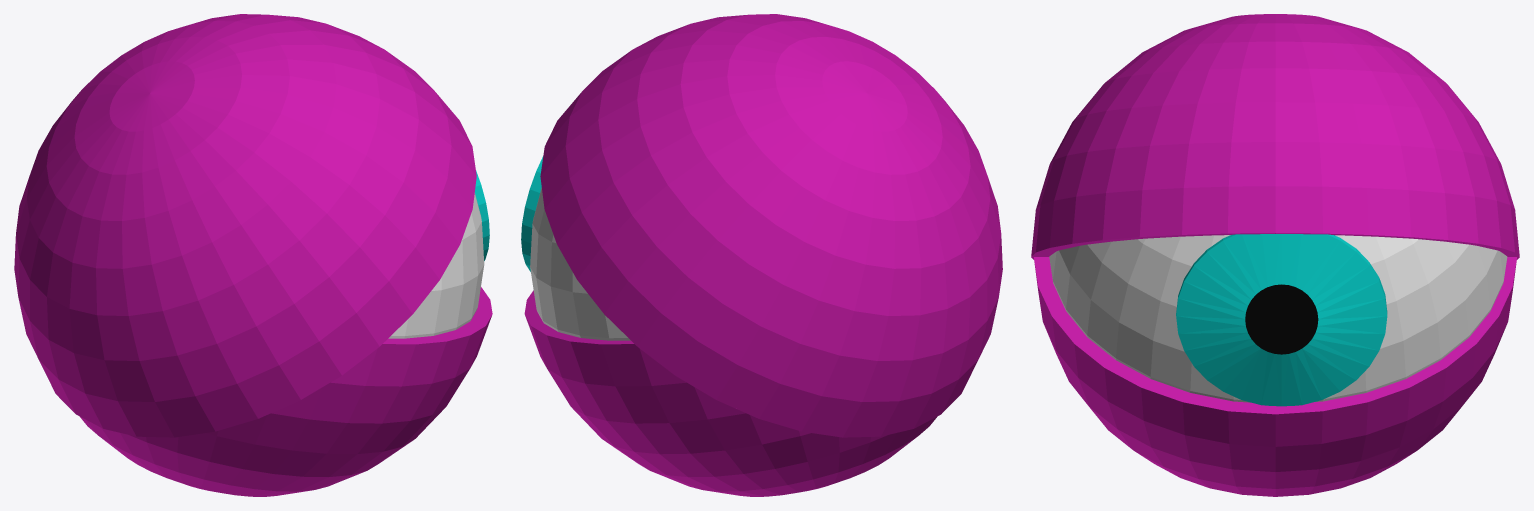
File: purple-eye.dae
3 views of the same model, side by side, from view 1: azimuth 30°, elevation 25°; view 2: azimuth 150°, elevation 25°; view 3: azimuth 270°, elevation 25° (orthographic).
Parts seen in each view (by area): view 1: Dome, Base, Eyeball, Iris; view 2: Dome, Base, Eyeball, Iris; view 3: Dome, Base, Eyeball, Iris, Pupil.
Boxes of the visible parts, x1,y1,x2,y2 form: Dome: (14, 14, 476, 437); Base: (79, 287, 492, 496); Eyeball: (388, 193, 484, 338); Iris: (474, 170, 489, 261); Dome: (540, 14, 1002, 437); Base: (524, 290, 937, 496); Eyeball: (530, 188, 630, 340); Iris: (521, 156, 543, 271); Dome: (1031, 14, 1519, 259); Base: (1033, 257, 1517, 496); Eyeball: (1049, 235, 1507, 402); Iris: (1176, 234, 1387, 406); Pupil: (1245, 284, 1318, 354).
Size of the model in its own units: 2 by 2.02 by 2.
